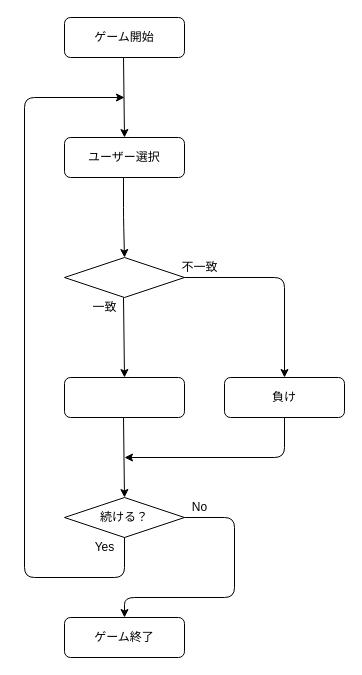
The diagram is 362 pixels wide and 675 high, and some of its shapes have lost their labels. Each missing label, with the centre of its shape:
"COM選択" belongs at (x=124, y=277).
"勝ち" belongs at (x=124, y=397).
